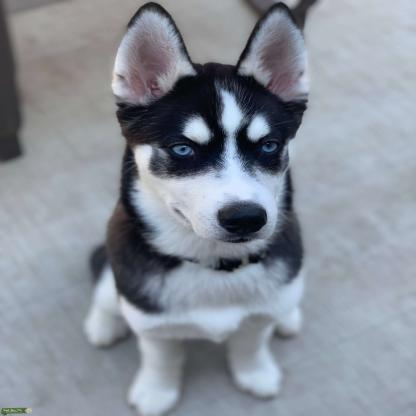husky: (79, 4, 313, 416)
